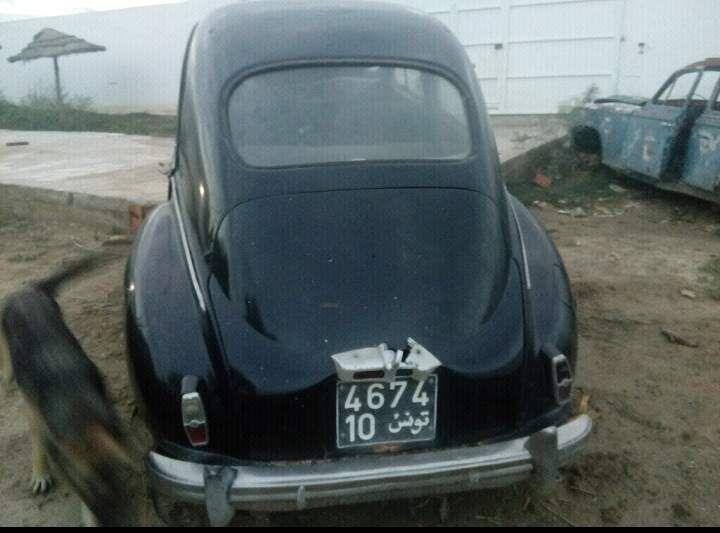LP: (333, 376, 437, 447)
